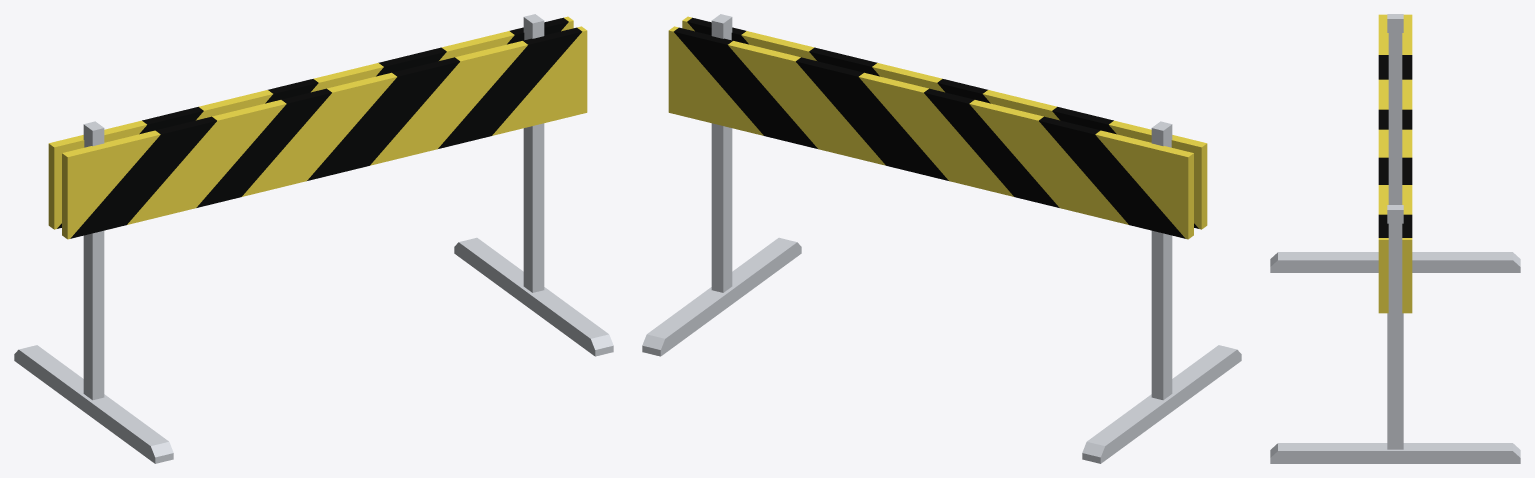
File: Wood_Road_Block_Medium_001.glb
3 views of the same model, side by side, from view 1: azimuth 30°, elevation 25°; view 2: azimuth 150°, elevation 25°; view 3: azimuth 270°, elevation 25° (orthographic). The views are drawn at different scales.
Visible parts, largest first — view 1: Wood Road Block Medium.001; view 2: Wood Road Block Medium.001; view 3: Wood Road Block Medium.001.
Boxes of the visible parts, bbox=[...] form: Wood Road Block Medium.001: bbox=[14, 14, 613, 463]; Wood Road Block Medium.001: bbox=[642, 14, 1241, 463]; Wood Road Block Medium.001: bbox=[1270, 14, 1520, 463].
Size of the model in its own units: 13.22 by 6.91 by 6.21.
Materials: 1 (1 with a texture image).
